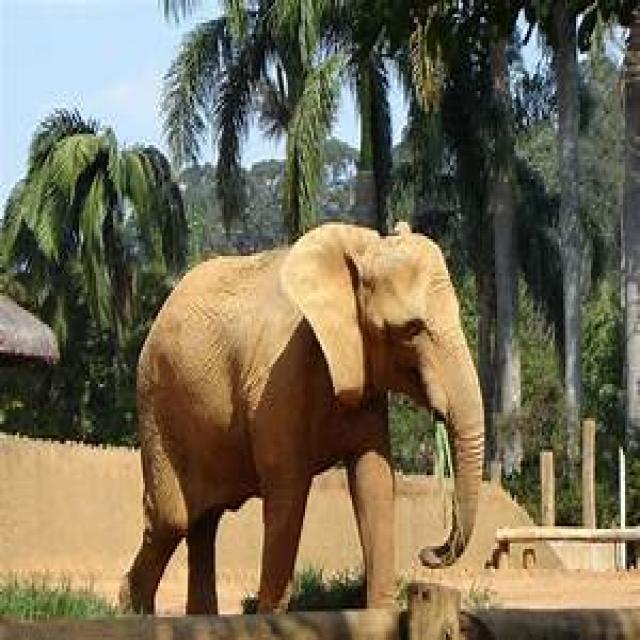elephant: (119, 222, 489, 617)
